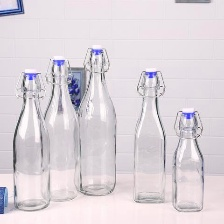bottle: (70, 44, 122, 199), (39, 53, 84, 204), (10, 66, 50, 214), (128, 65, 168, 207), (171, 103, 207, 216)
